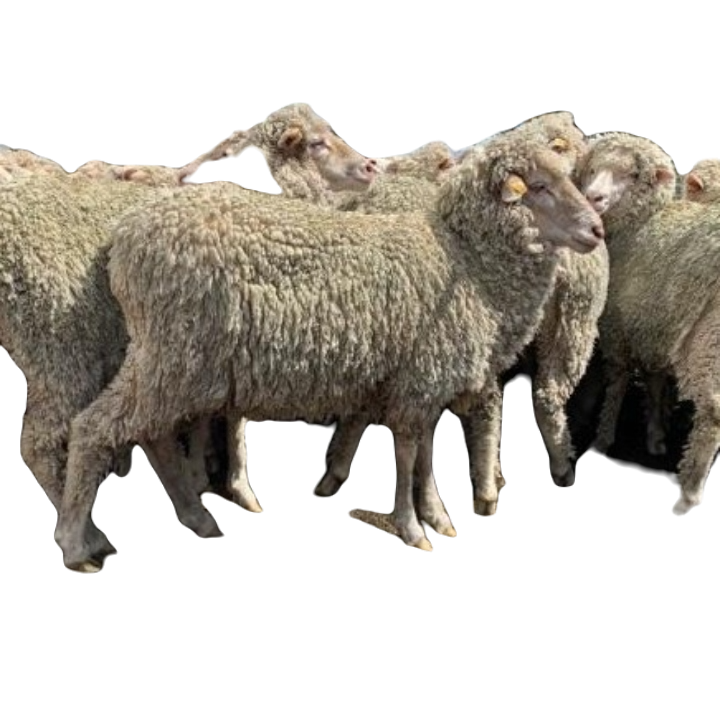Sheep: (46, 136, 612, 576)
